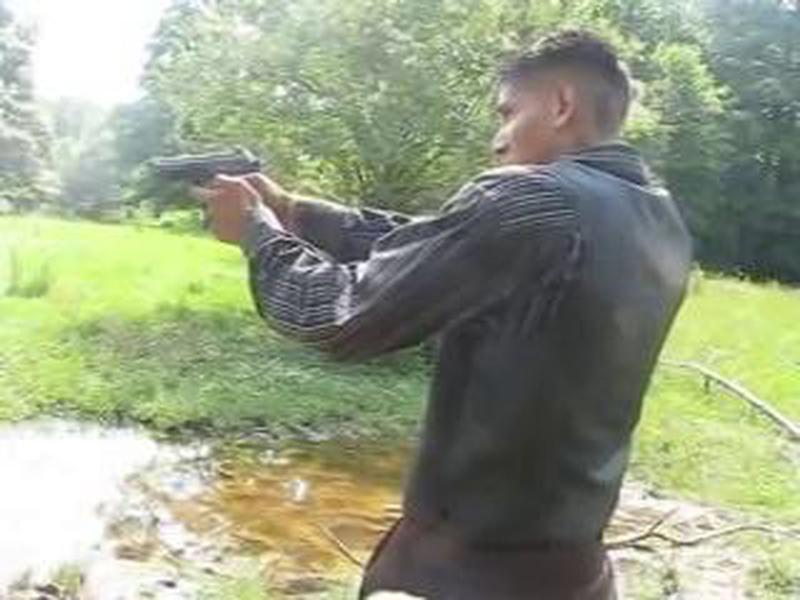Pistola: (131, 134, 273, 202)
